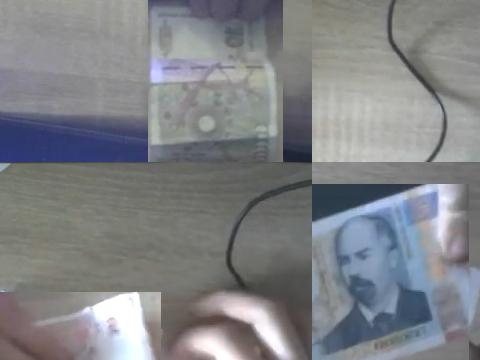10leva: (148, 0, 279, 162)
20leva: (312, 184, 469, 360)
5leva: (39, 292, 158, 360)
